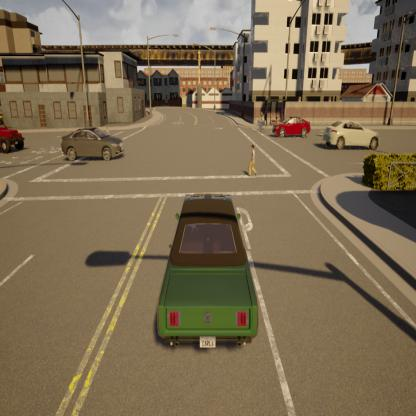Cars: (150, 190, 267, 364), (59, 120, 131, 167), (323, 115, 384, 155), (0, 109, 28, 160), (270, 112, 315, 140)
Pedestrian: (240, 137, 261, 178), (100, 118, 113, 139)
